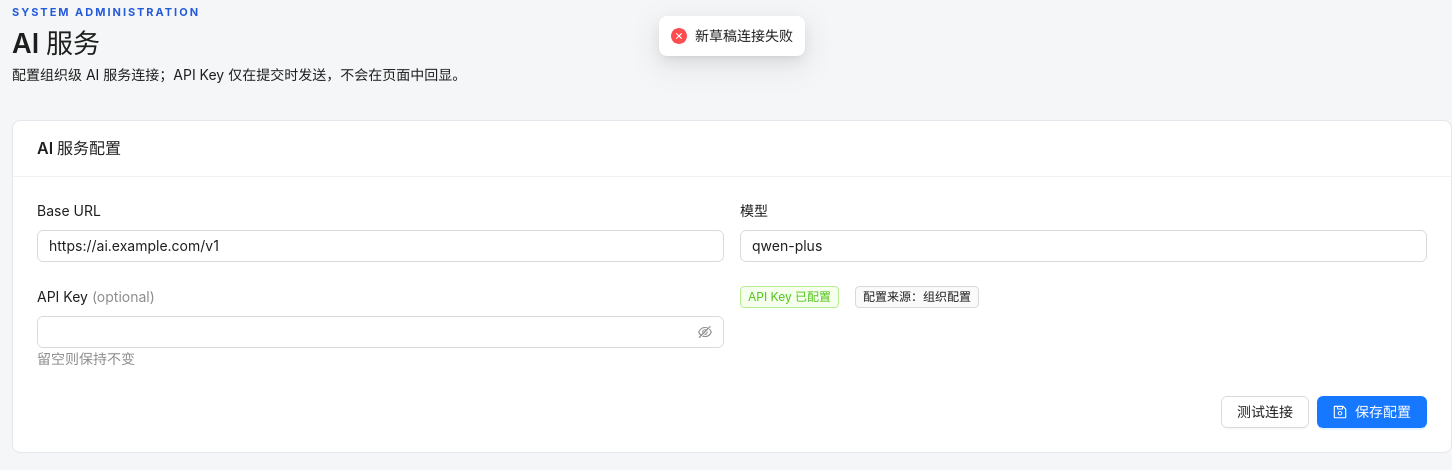
忽略表单编辑前启动的连接测试成功结果
Expected: the field showing "https://ai.example.com/v1" is shown, [37, 230, 724, 262]
Click the button "测试连接" at (1265,412), box [1221, 396, 1309, 428]
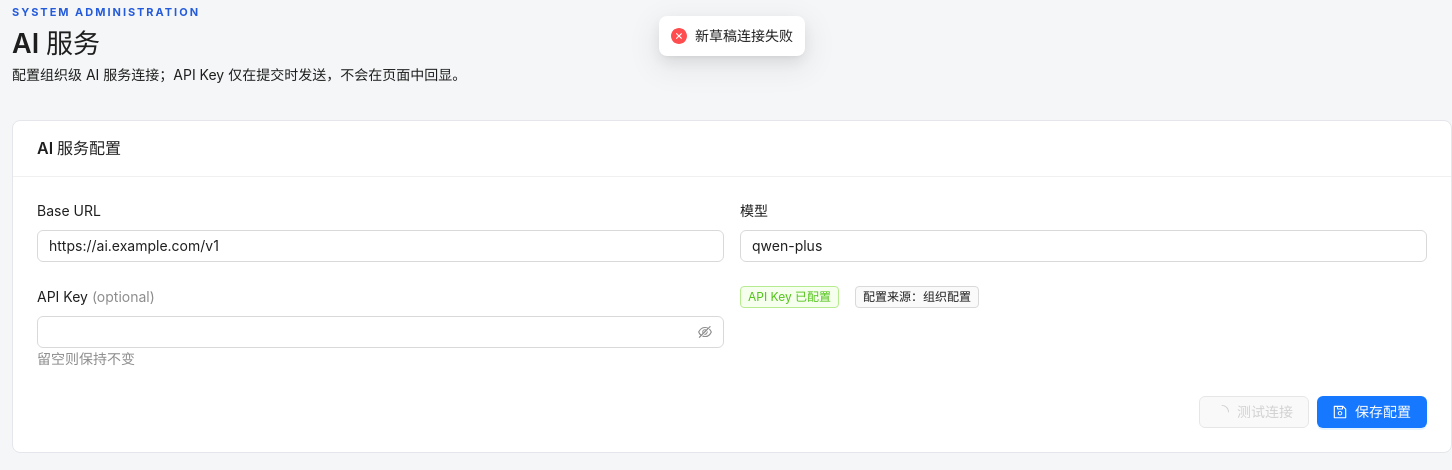
Expected: the button "测试连接" is disabled, [1199, 396, 1309, 428]
Type "edited-model" into the field labelled "模型" at (1084,246), box [740, 230, 1427, 262]
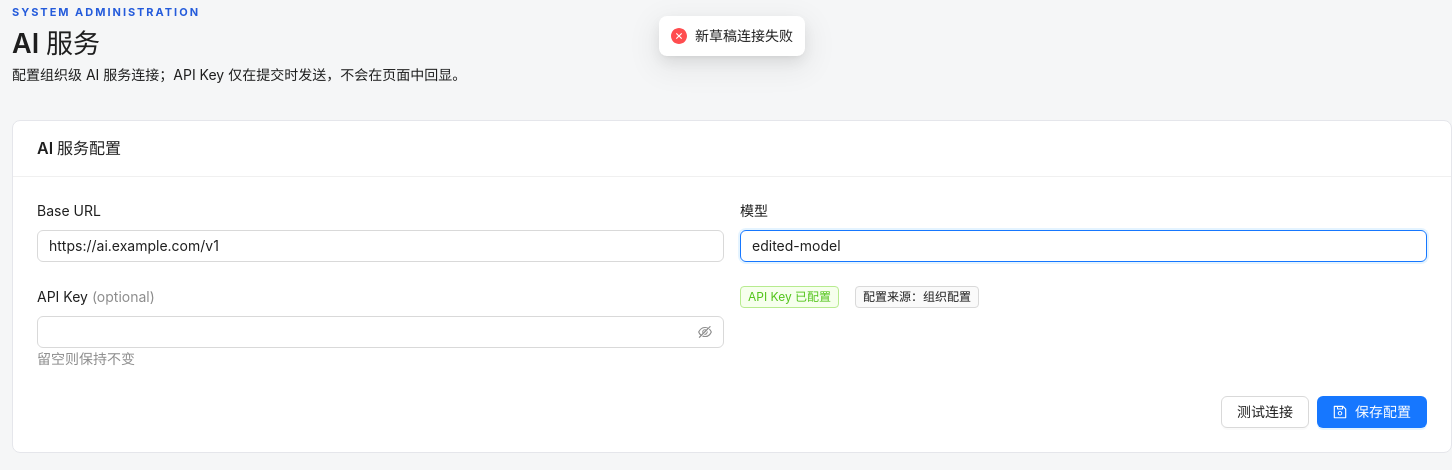
Expected: the button "测试连接" is enabled, [1221, 396, 1309, 428]
